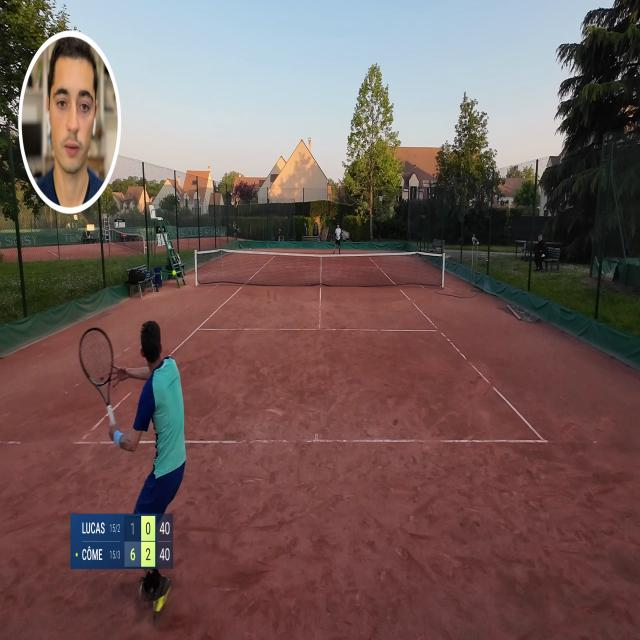ball: (172, 269, 177, 277), (249, 247, 251, 250)
